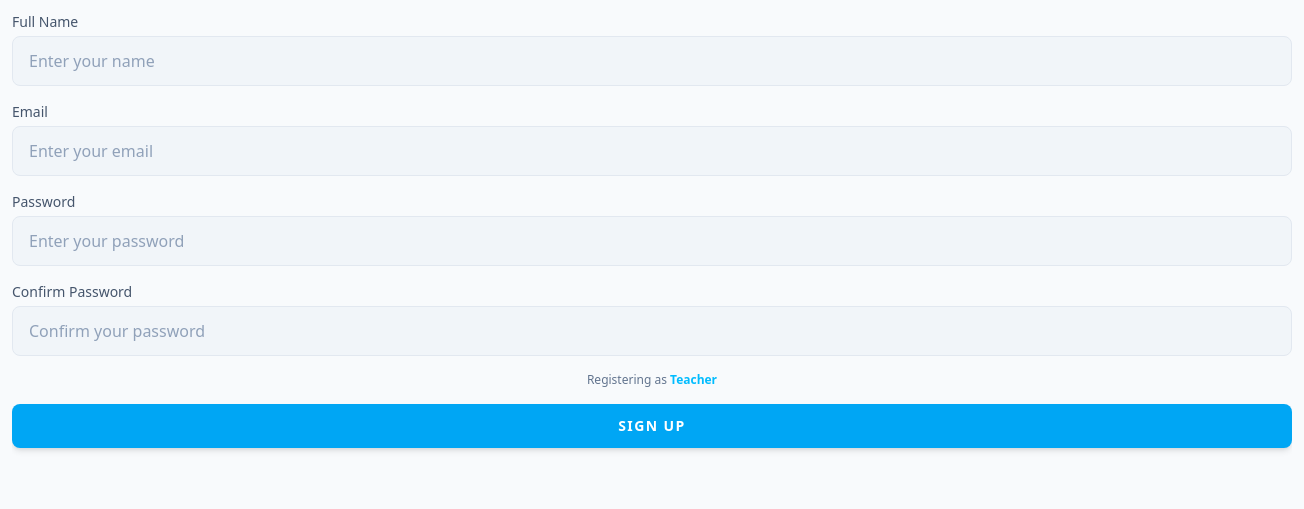
it: Register Component › shows min length error for short password
Type "Test" into the field with placeholder "Enter your name" at (652, 61), box left=12, top=36, right=1292, bottom=86
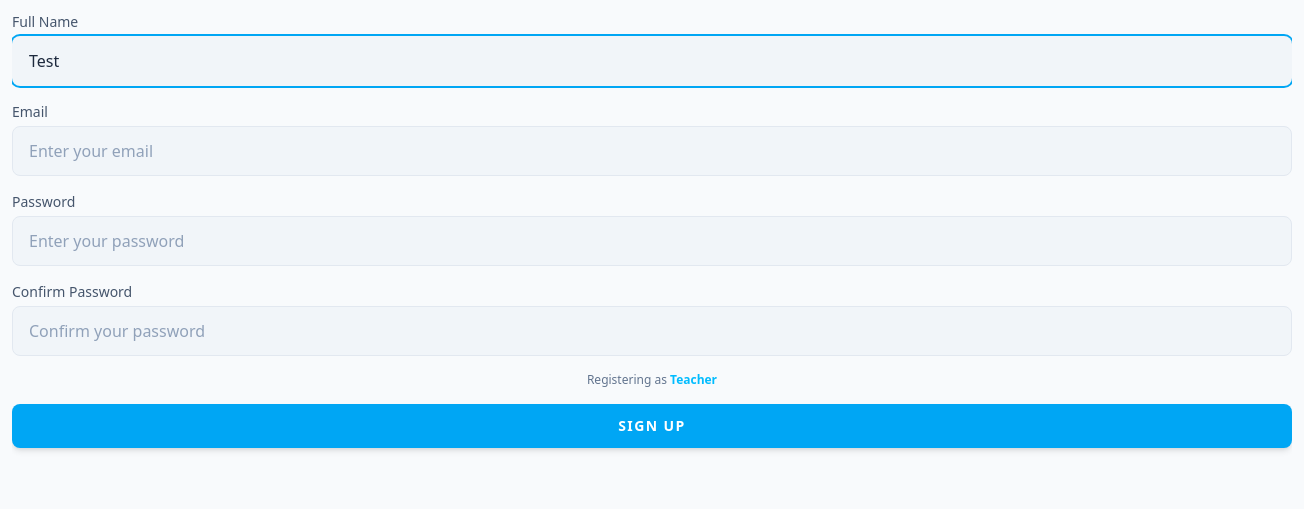
Type "test@test.com" into the field with placeholder "Enter your email" at (652, 151), box left=12, top=126, right=1292, bottom=176
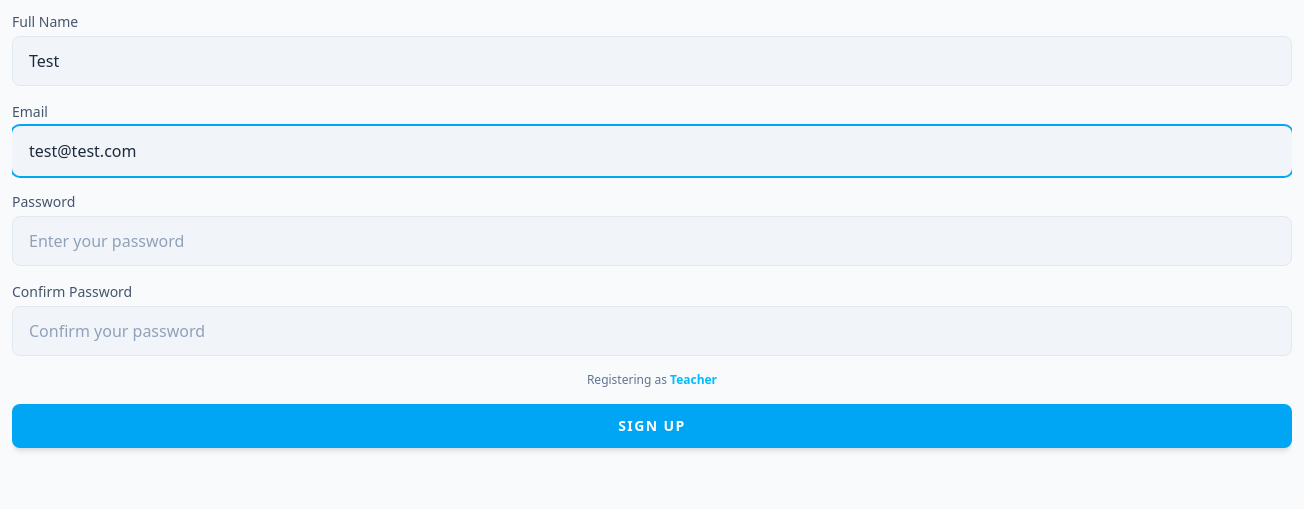
Type "short" into the password field with placeholder "Enter your password" at (652, 241), box left=12, top=216, right=1292, bottom=266
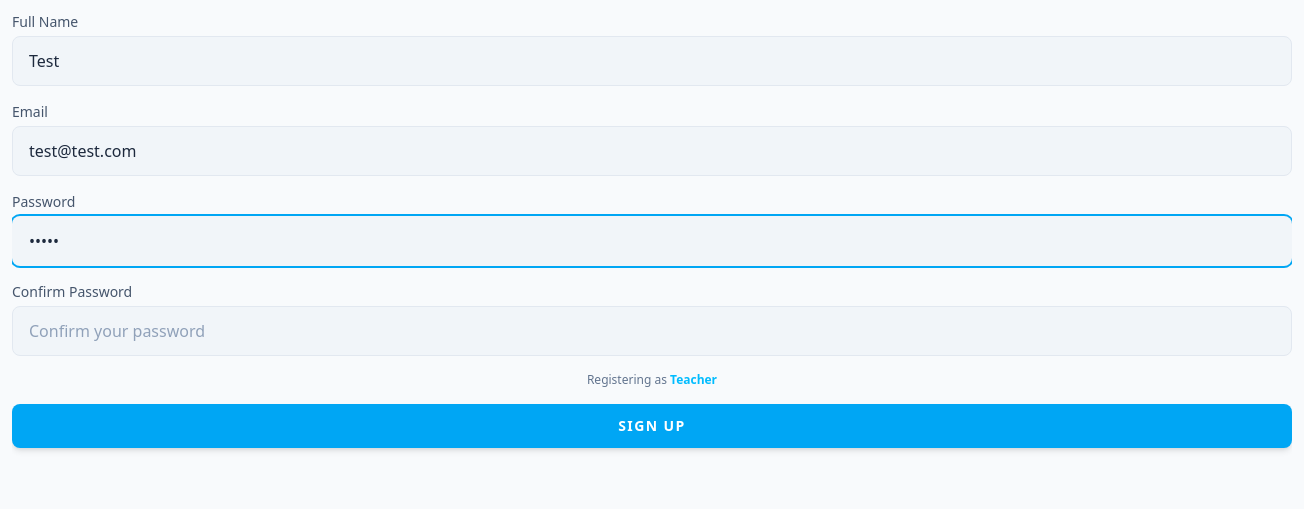
Click the button "Sign Up" at (652, 426), box left=12, top=404, right=1292, bottom=448
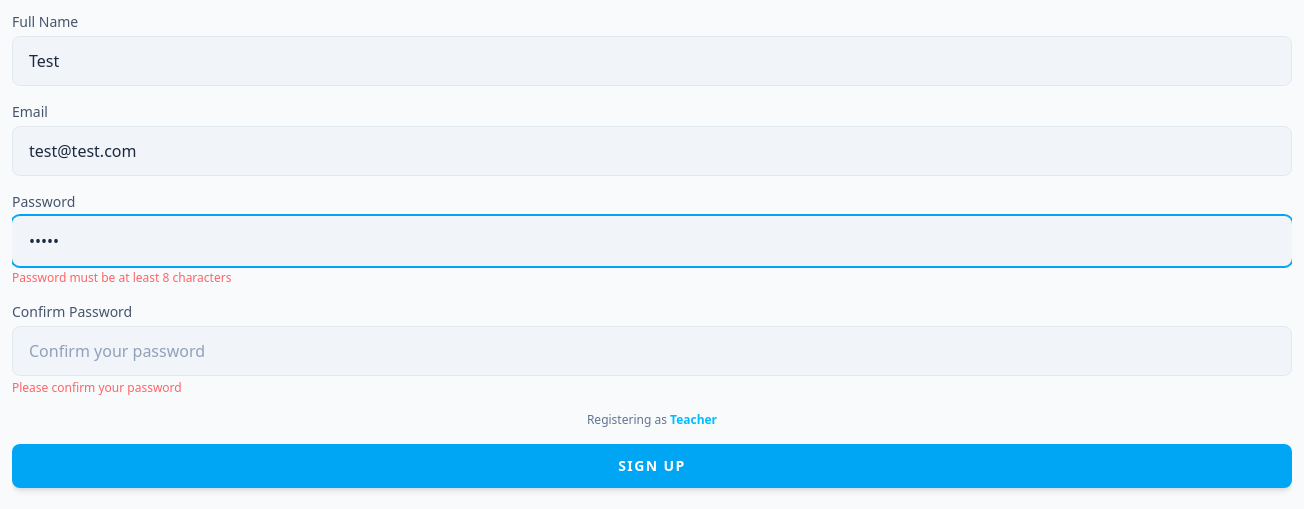
expect the text "Password must be at least 8 characters" is shown: met, box left=12, top=269, right=231, bottom=286
